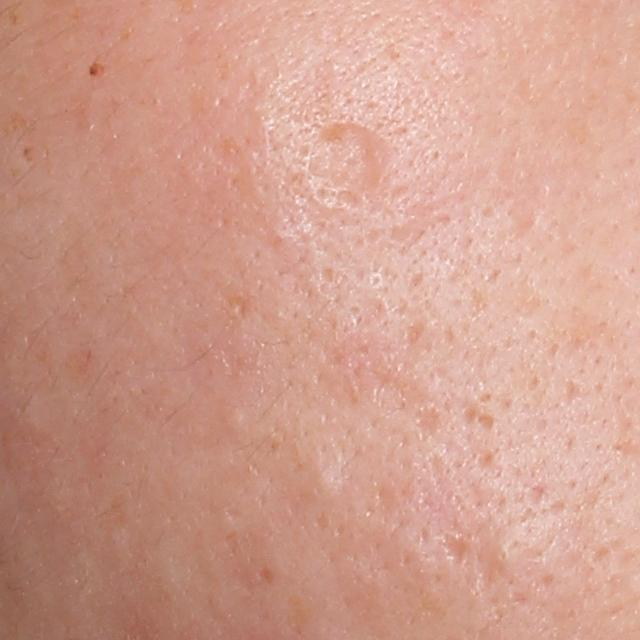atrophic_scar: (298, 111, 405, 237), (472, 534, 512, 593), (435, 530, 474, 571), (411, 403, 442, 444), (460, 405, 498, 435)
comedo: (301, 461, 341, 503), (489, 540, 518, 569), (221, 403, 249, 430)
melasma: (85, 60, 107, 77)
